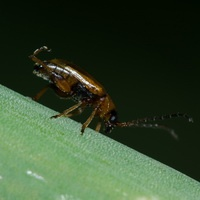insect: (29, 46, 192, 138)
